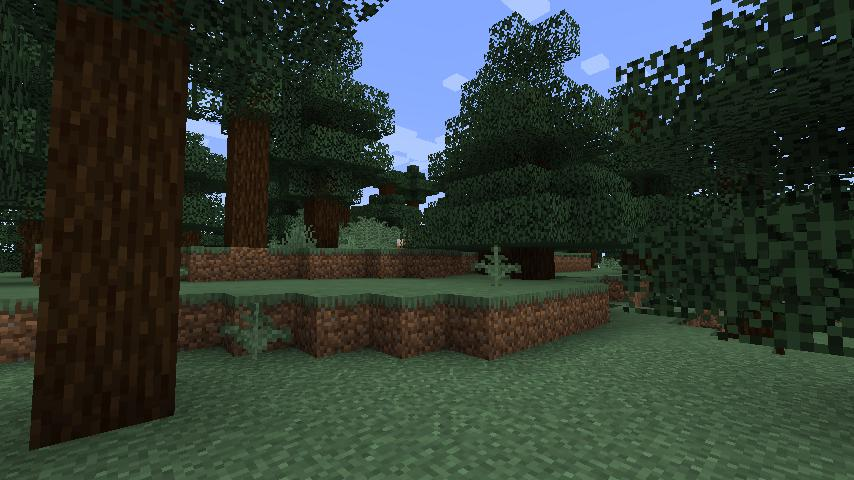fox: (396, 238, 408, 250)
